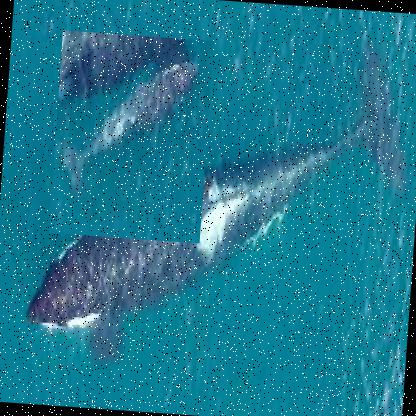killer_whale: (21, 18, 415, 383), (48, 30, 214, 244)
